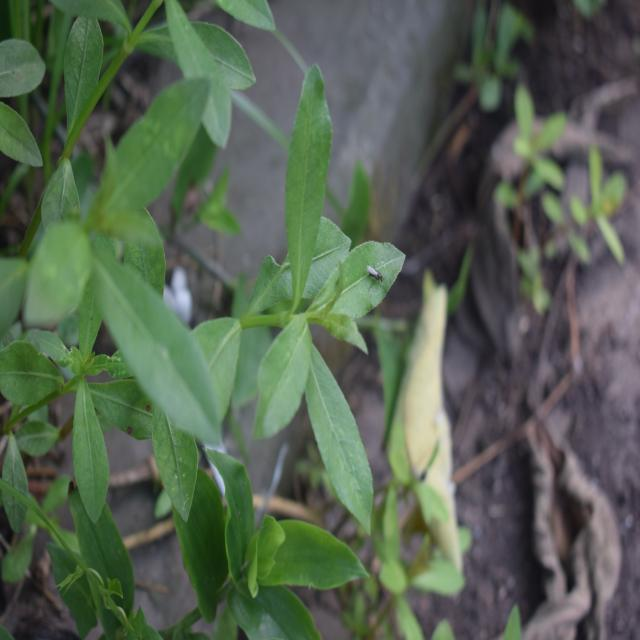Alligatorweed: (166, 84, 415, 512)
